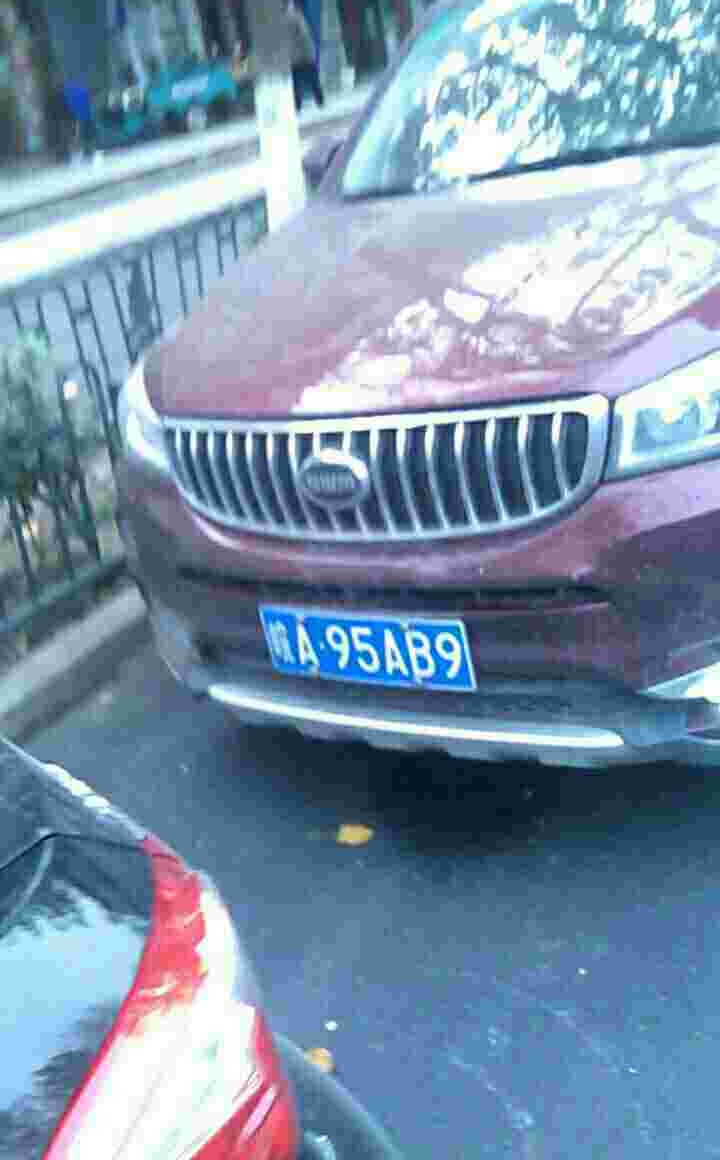license_plate: (267, 605, 468, 691)
